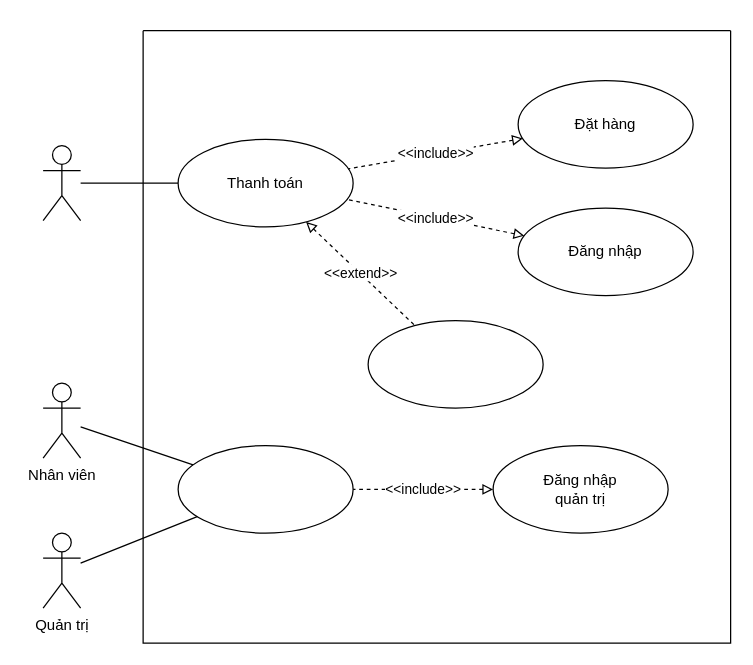
Some shapes in this 753 by 665 pixel diagram are drawn without their labels. Here are the shapes that lost their labels. From the top down, the centre of each, then its label:
At pixel 61 182: "Khách hàng".
At pixel 455 363: "Cập nhật hoá đơn thanh toán".
At pixel 265 488: "Quản lí hoá đơn thanh toán".
